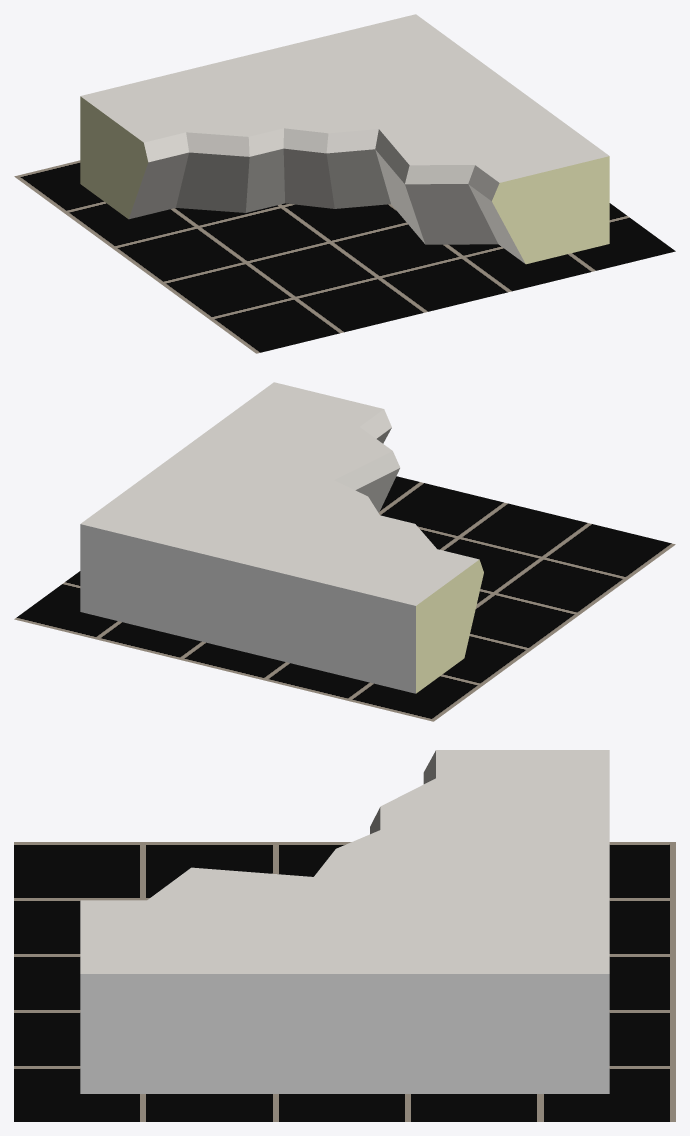
The model's file is Cracked_Curve_Inner_4x4_2_Top.glb.
3 renders of one model, top to bottom at view 1: azimuth 30°, elevation 25°; view 2: azimuth 150°, elevation 25°; view 3: azimuth 270°, elevation 25°, orthographic. The views are drawn at different scales.
Visible parts, largest first — view 1: Cracked_Curve_Inner_4x4_2_Top, Floor; view 2: Cracked_Curve_Inner_4x4_2_Top, Floor; view 3: Cracked_Curve_Inner_4x4_2_Top, Floor.
Boxes of the visible parts, x1,y1,x2,y2 form: Cracked_Curve_Inner_4x4_2_Top: [80, 14, 609, 264]; Floor: [14, 160, 675, 353]; Cracked_Curve_Inner_4x4_2_Top: [80, 382, 483, 693]; Floor: [14, 476, 675, 721]; Cracked_Curve_Inner_4x4_2_Top: [80, 750, 609, 1093]; Floor: [14, 842, 675, 1121].
Size of the model in its own units: 500 by 100 by 500.
Materials: 4 (1 with a texture image).
